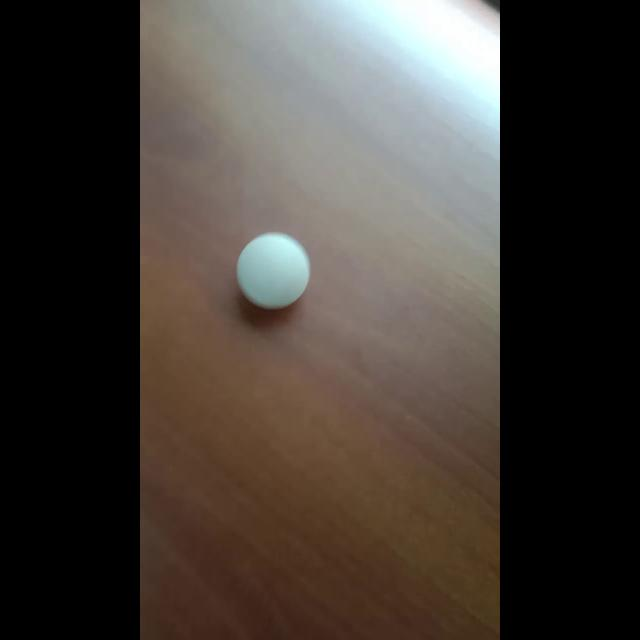white ball: (236, 231, 310, 311)
